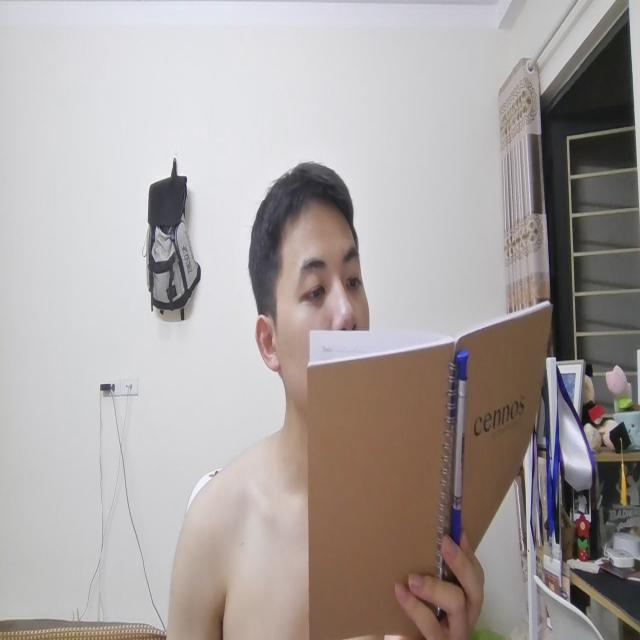book: (304, 304, 554, 630)
student: (250, 140, 373, 427)
